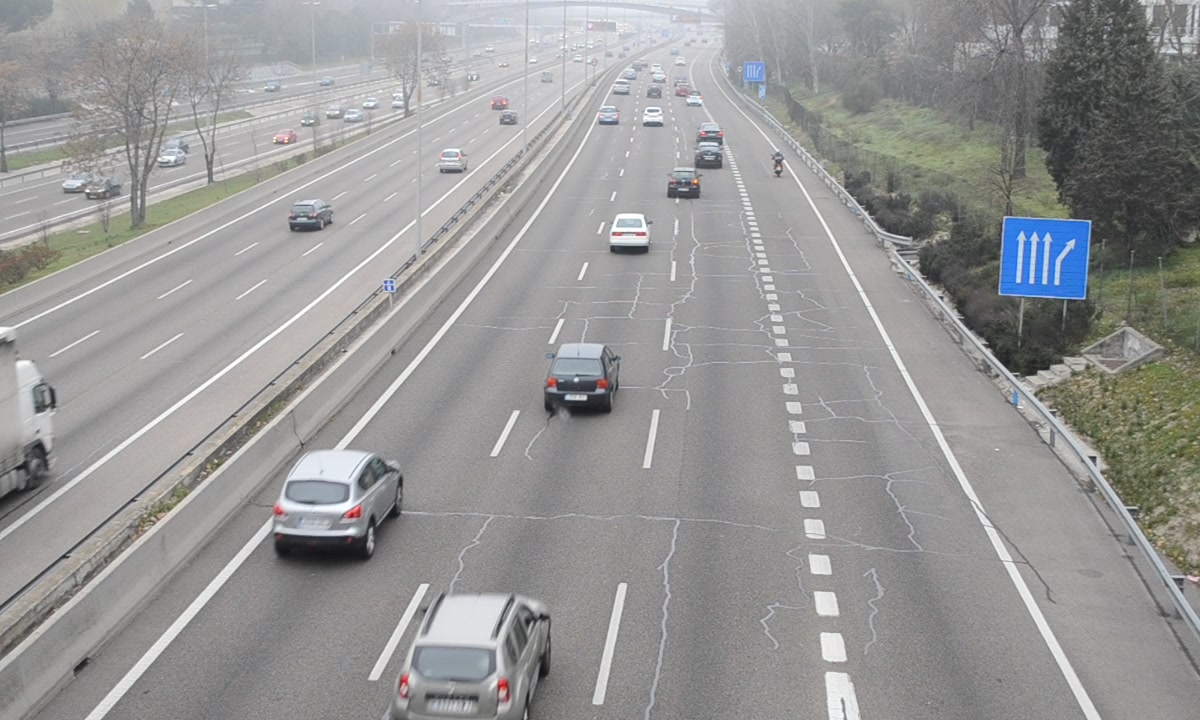car: (394, 592, 551, 720), (273, 450, 403, 537), (547, 344, 619, 408), (609, 212, 650, 249), (666, 167, 702, 199), (695, 143, 724, 169), (640, 105, 666, 129), (698, 122, 726, 144)
motorcycle: (772, 150, 786, 180)
